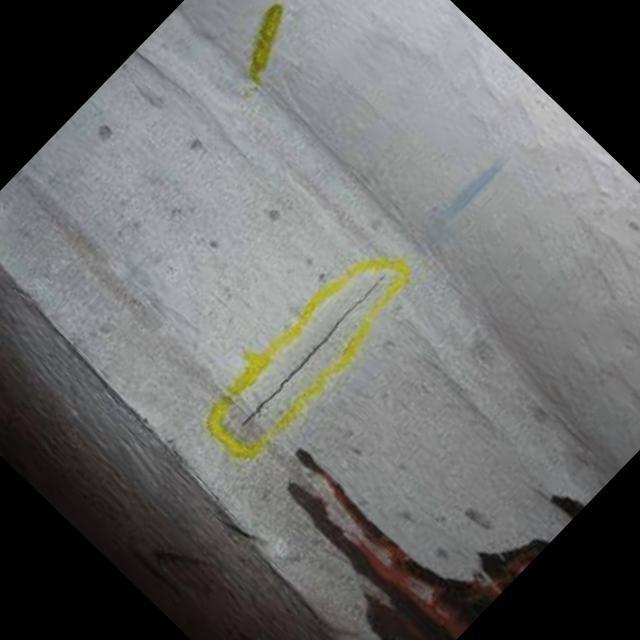defect: (239, 266, 392, 428)
